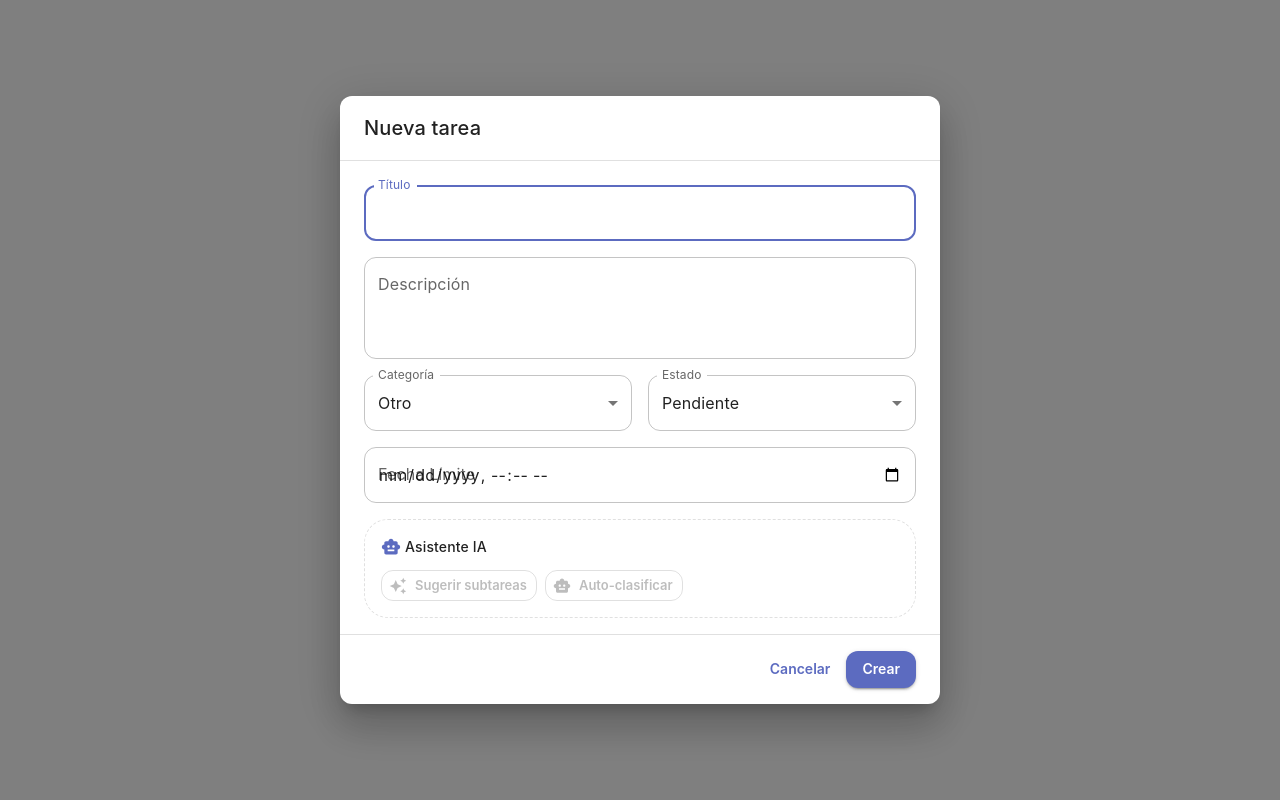
Test: TaskFormDialog › sección IA › debe clasificar la tarea al hacer click en "Auto-clasificar"
In the field labelled "Título": (640, 213) [364, 185, 916, 241], type "Reunión de trabajo"
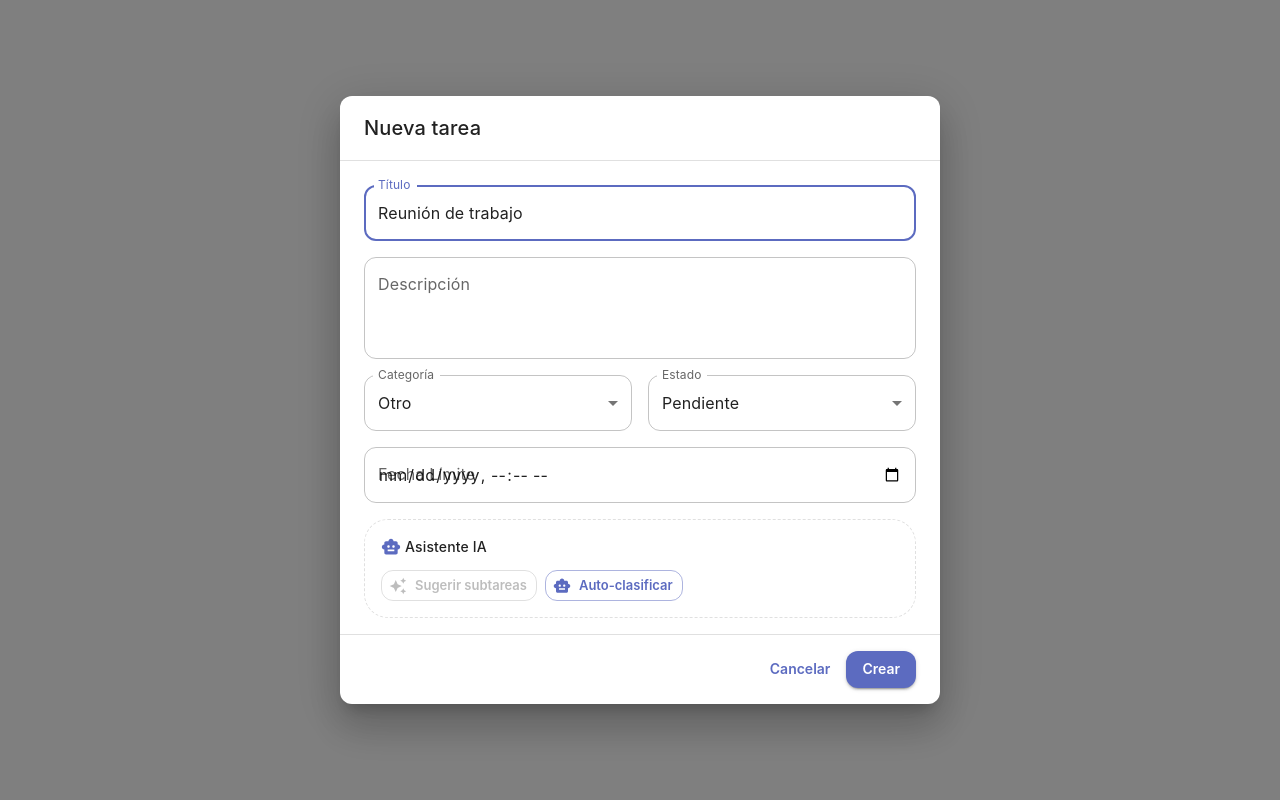
In the text box labelled "Descripción": (640, 308) [378, 274, 902, 343], type "Reunión con el cliente del proyecto"
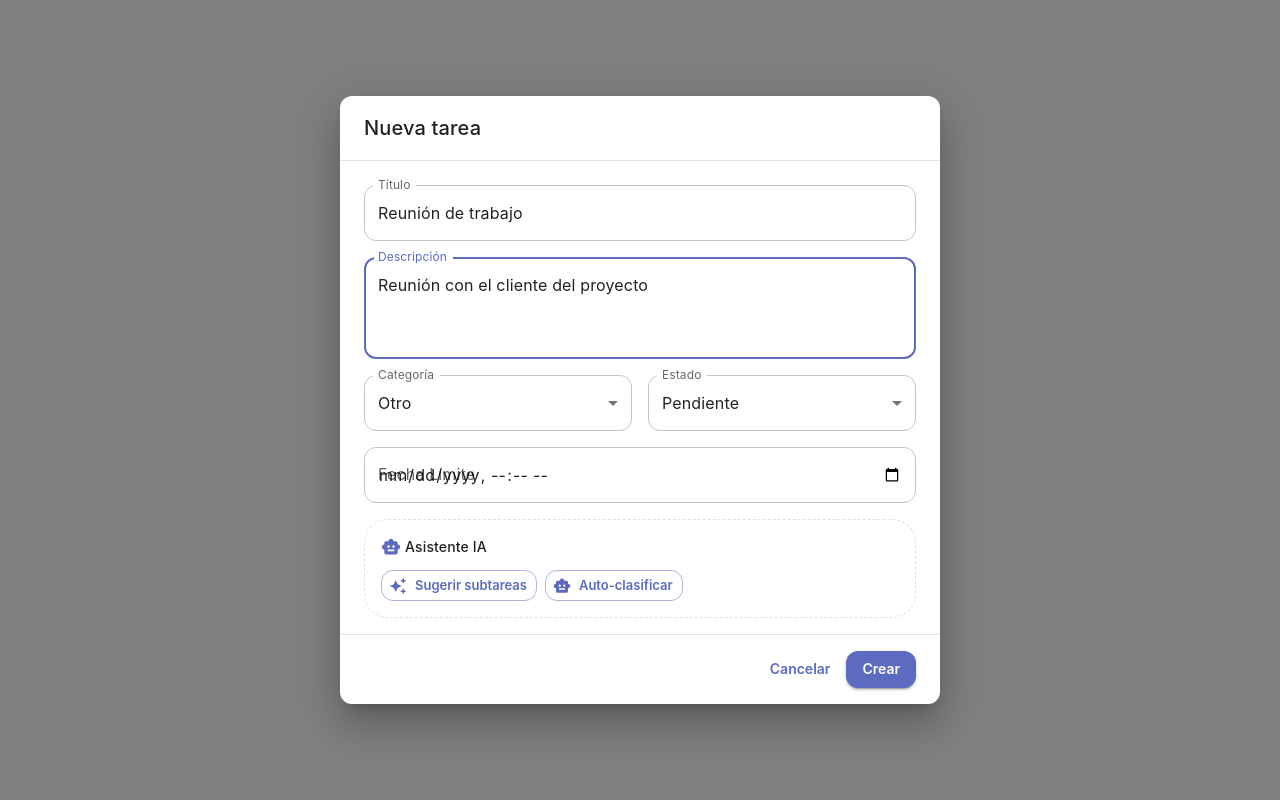
Click the button "Auto-clasificar": (614, 586) [545, 570, 683, 601]
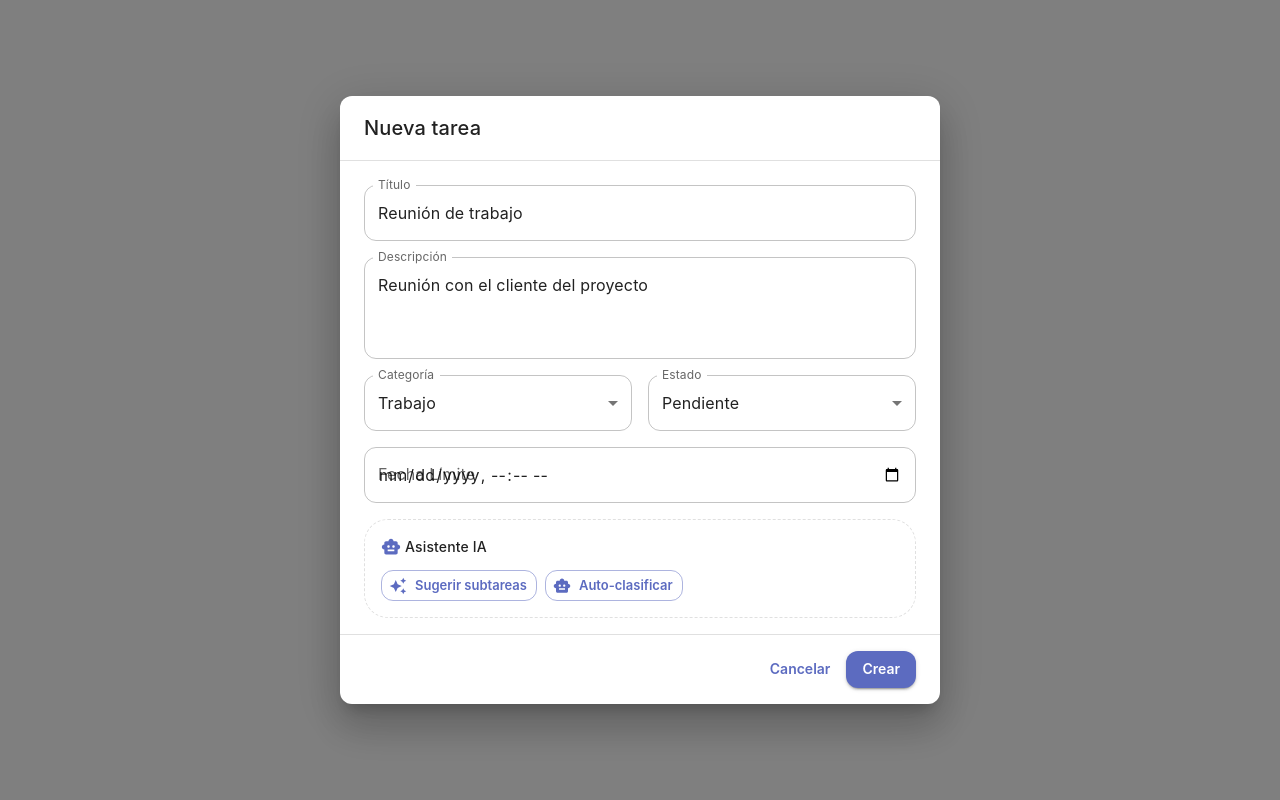
expect the dropdown named "Categoría" reads "Trabajo": met, box [378, 393, 436, 413]
